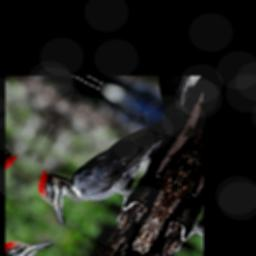Woodpecker: (23, 83, 182, 251)
